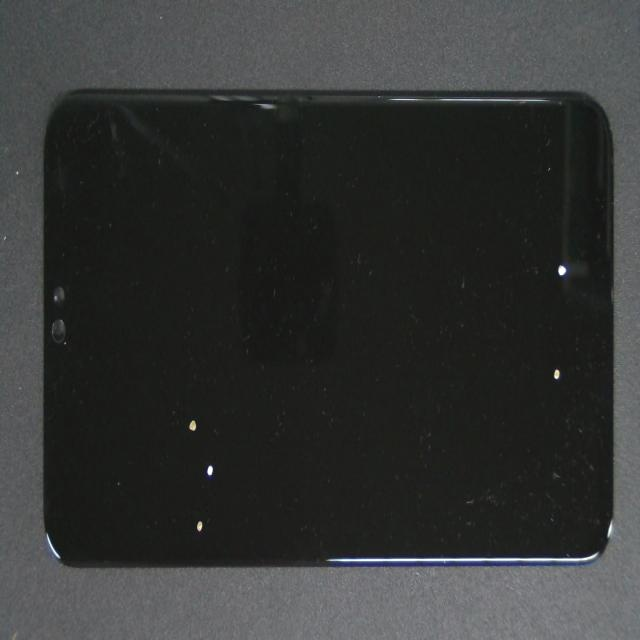stain: (299, 182, 640, 541), (257, 134, 640, 440), (102, 216, 297, 640), (82, 226, 278, 640), (85, 278, 276, 640)
